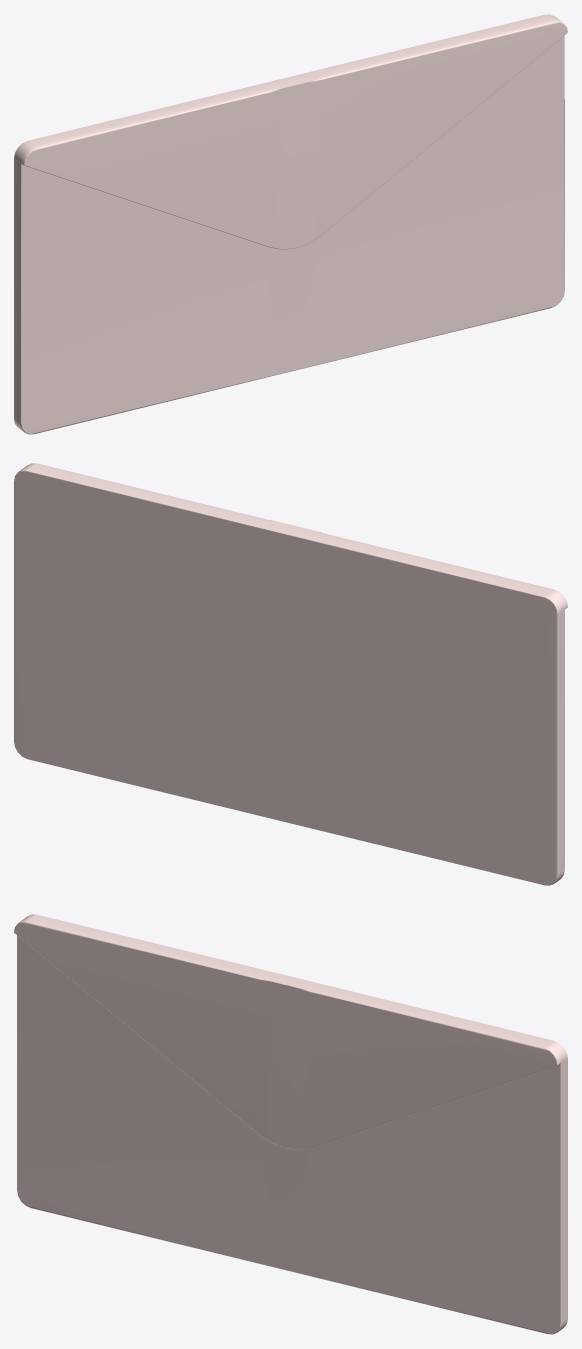
File: Public_6_Letter_1.glb
The picture shows the model from 3 angles, top to bottom: view 1: azimuth 30°, elevation 25°; view 2: azimuth 150°, elevation 25°; view 3: azimuth 330°, elevation 25°; orthographic projection.
Parts seen in each view (by area): view 1: Public_6_Letter_1; view 2: Public_6_Letter_1; view 3: Public_6_Letter_1.
Part boxes in pixels (x1,y1,x2,y2): Public_6_Letter_1: (14, 14, 567, 434); Public_6_Letter_1: (14, 463, 567, 885); Public_6_Letter_1: (14, 914, 567, 1334).
Bounding box in the file's own units: 4.16 × 2.11 × 0.1402.
1 material, 1 textured.
